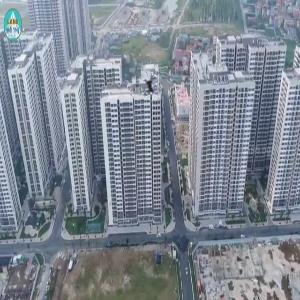drone: (132, 67, 175, 110)
